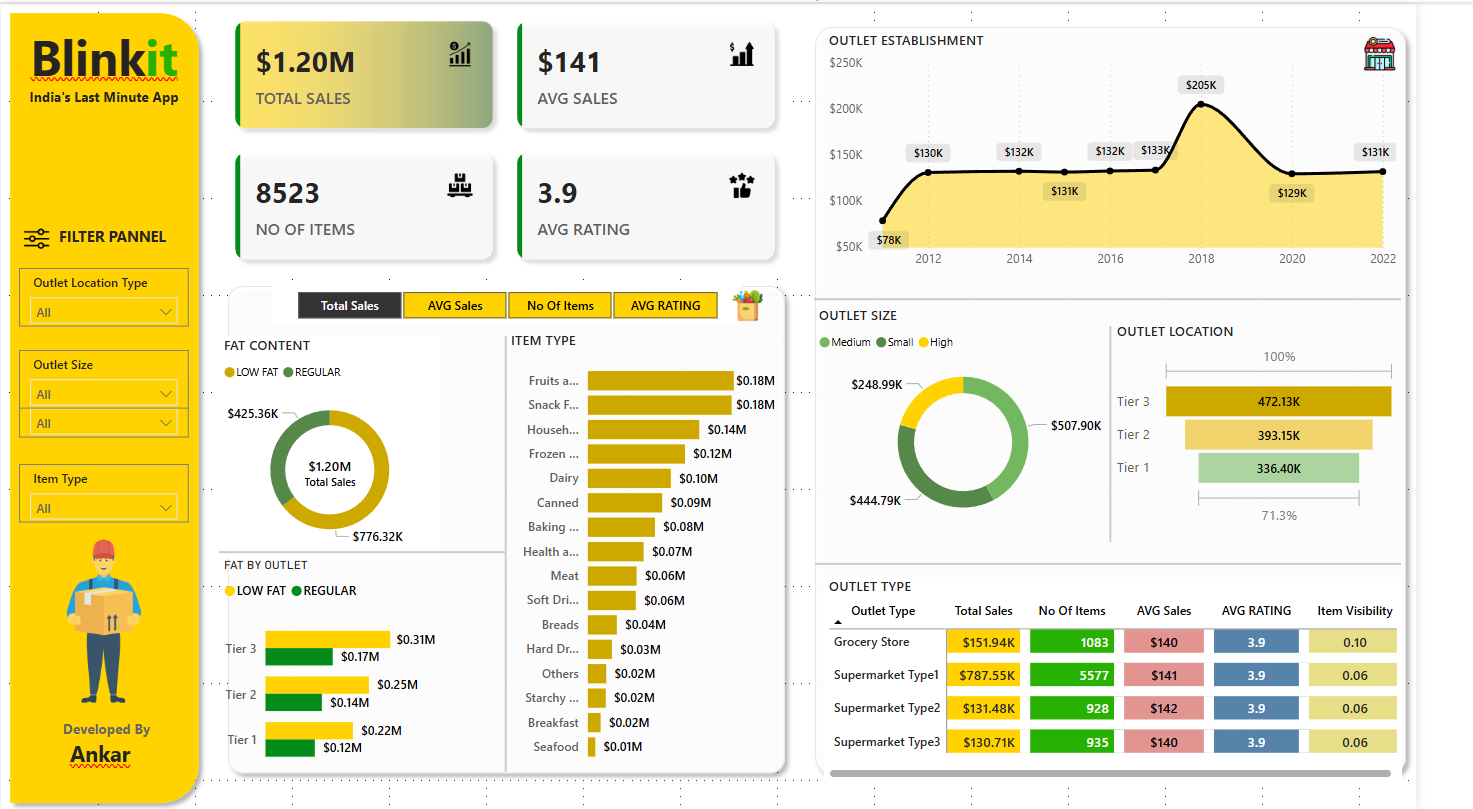

What the dashboard file says about the page in this screenshot:
{"tool":"powerbi","page":{"name":"DASHBOARD","canvas":[1400,800],"ordinal":0},"visuals":[{"type":"shape","box":[0,0,204.8,800],"z":0},{"type":"textbox","box":[9.9,14.3,184.3,90.5],"z":1000},{"type":"textbox","box":[9.9,78.3,184.3,34.2],"z":2000},{"type":"cardVisual","fields":{"Data":["BlinkIT Grocery Data.Total Sales","BlinkIT Grocery Data.AVG Sales","BlinkIT Grocery Data.No Of Items","BlinkIT Grocery Data.AVG RATING"]},"box":[214.8,0,569.1,270.2],"z":3000},{"type":"shape","box":[215.7,270.2,568.9,500.1],"z":4000},{"type":"donutChart","title":"FAT CONTENT","fields":{"Y":["BlinkIT Grocery Data.Total Sales"],"Category":["BlinkIT Grocery Data.Item Fat Content"]},"box":[215.7,328.3,219.3,220.4],"z":5000},{"type":"slicer","fields":{"Values":["Metrics.Metrics"]},"box":[267.9,278.5,464.6,40.3],"z":6000},{"type":"cardVisual","fields":{"Data":["BlinkIT Grocery Data.Total Sales"]},"box":[233.5,407.7,184.9,112.6],"z":7000},{"type":"clusteredBarChart","title":"FAT BY OUTLET","fields":{"Y":["BlinkIT Grocery Data.Total Sales"],"Category":["BlinkIT Grocery Data.Outlet Location Type"],"Series":["BlinkIT Grocery Data.Item Fat Content"]},"box":[215.7,548.7,219.3,221.6],"z":8000},{"type":"shape","box":[215.7,520.3,284.4,43.9],"z":9000},{"type":"shape","box":[468.1,328.3,62.8,431.4],"z":10000},{"type":"barChart","title":"ITEM TYPE","fields":{"Y":["BlinkIT Grocery Data.Total Sales"],"Category":["BlinkIT Grocery Data.Item Type"]},"box":[500.1,323.6,271.4,436.1],"z":11000},{"type":"shape","box":[796.7,13.9,602.7,758.1],"z":12000},{"type":"lineChart","title":"OUTLET ESTABLISHMENT","fields":{"Y":["BlinkIT Grocery Data.Total Sales"],"Category":["BlinkIT Grocery Data.Outlet Establishment Year"]},"box":[814.5,26.7,571.1,243.5],"z":13000},{"type":"shape","box":[804.7,270.2,580.7,43.9],"z":14000},{"type":"donutChart","title":"OUTLET SIZE","fields":{"Y":["BlinkIT Grocery Data.Total Sales"],"Category":["BlinkIT Grocery Data.Outlet Size"]},"box":[804.7,298.7,295.1,225.2],"z":15000},{"type":"shape","box":[1066.3,319,64,213.7],"z":16000},{"type":"funnel","title":"OUTLET LOCATION","fields":{"Category":["BlinkIT Grocery Data.Outlet Location Type"],"Y":["Sum(BlinkIT Grocery Data.Sales)"]},"box":[1099.1,314.4,286.6,205.9],"z":17000},{"type":"shape","box":[805.2,532.6,580.1,43.4],"z":18000},{"type":"pivotTable","title":"OUTLET TYPE","fields":{"Rows":["BlinkIT Grocery Data.Outlet Type"],"Values":["BlinkIT Grocery Data.Total Sales","BlinkIT Grocery Data.No Of Items","BlinkIT Grocery Data.AVG Sales","BlinkIT Grocery Data.AVG RATING","Avg(BlinkIT Grocery Data.Item Visibility)"]},"box":[814.5,566.7,571.9,204.4],"z":19000},{"type":"slicer","fields":{"Values":["BlinkIT Grocery Data.Outlet Location Type"]},"box":[17.5,261.2,168.3,57.8],"z":20000},{"type":"slicer","fields":{"Values":["BlinkIT Grocery Data.Outlet Size"]},"box":[17.5,371.6,168.3,57.8],"z":21000},{"type":"slicer","fields":{"Values":["BlinkIT Grocery Data.Item Type"]},"box":[17.5,455.2,168.3,57.8],"z":22000},{"type":"slicer","fields":{"Values":["BlinkIT Grocery Data.Outlet Size"]},"box":[17.5,342.7,168.3,57.8],"z":23000},{"type":"textbox","box":[43.5,214.8,133.6,34.6],"z":24000},{"type":"image","box":[17.8,210.8,34.6,43.5],"z":29000},{"type":"image","box":[9.9,499.8,184.1,222.7],"z":29001},{"type":"textbox","box":[35.6,722.5,124.7,38.6],"z":29003},{"type":"textbox","box":[56.4,703.7,107.9,37.6],"z":29004},{"type":"image","box":[713.6,278.1,50.5,40.6],"z":29005},{"type":"image","box":[1343,26.7,42.6,45.5],"z":29006}]}

Visuals, with their boxes on the page's 1400x800 design canvas (x1, y1, x2, y2). These are canvas units, not pixel positions in the 1473x809 screenshot, which may show the page scaled, cropped or inside an application window:
shape: x1=0, y1=0, x2=205, y2=800
textbox: x1=10, y1=14, x2=194, y2=105
textbox: x1=10, y1=78, x2=194, y2=112
cardVisual - BlinkIT Grocery Data.Total Sales x BlinkIT Grocery Data.AVG Sales: x1=215, y1=0, x2=784, y2=270
shape: x1=216, y1=270, x2=785, y2=770
"FAT CONTENT" donutChart: x1=216, y1=328, x2=435, y2=549
slicer - Metrics.Metrics: x1=268, y1=278, x2=732, y2=319
cardVisual - BlinkIT Grocery Data.Total Sales: x1=234, y1=408, x2=418, y2=520
"FAT BY OUTLET" clusteredBarChart: x1=216, y1=549, x2=435, y2=770
shape: x1=216, y1=520, x2=500, y2=564
shape: x1=468, y1=328, x2=531, y2=760
"ITEM TYPE" barChart: x1=500, y1=324, x2=772, y2=760
shape: x1=797, y1=14, x2=1399, y2=772
"OUTLET ESTABLISHMENT" lineChart: x1=814, y1=27, x2=1386, y2=270
shape: x1=805, y1=270, x2=1385, y2=314
"OUTLET SIZE" donutChart: x1=805, y1=299, x2=1100, y2=524
shape: x1=1066, y1=319, x2=1130, y2=533
"OUTLET LOCATION" funnel: x1=1099, y1=314, x2=1386, y2=520
shape: x1=805, y1=533, x2=1385, y2=576
"OUTLET TYPE" pivotTable: x1=814, y1=567, x2=1386, y2=771
slicer - BlinkIT Grocery Data.Outlet Location Type: x1=18, y1=261, x2=186, y2=319
slicer - BlinkIT Grocery Data.Outlet Size: x1=18, y1=372, x2=186, y2=429
slicer - BlinkIT Grocery Data.Item Type: x1=18, y1=455, x2=186, y2=513
slicer - BlinkIT Grocery Data.Outlet Size: x1=18, y1=343, x2=186, y2=400
textbox: x1=44, y1=215, x2=177, y2=249
image: x1=18, y1=211, x2=52, y2=254
image: x1=10, y1=500, x2=194, y2=722
textbox: x1=36, y1=722, x2=160, y2=761
textbox: x1=56, y1=704, x2=164, y2=741
image: x1=714, y1=278, x2=764, y2=319
image: x1=1343, y1=27, x2=1386, y2=72
